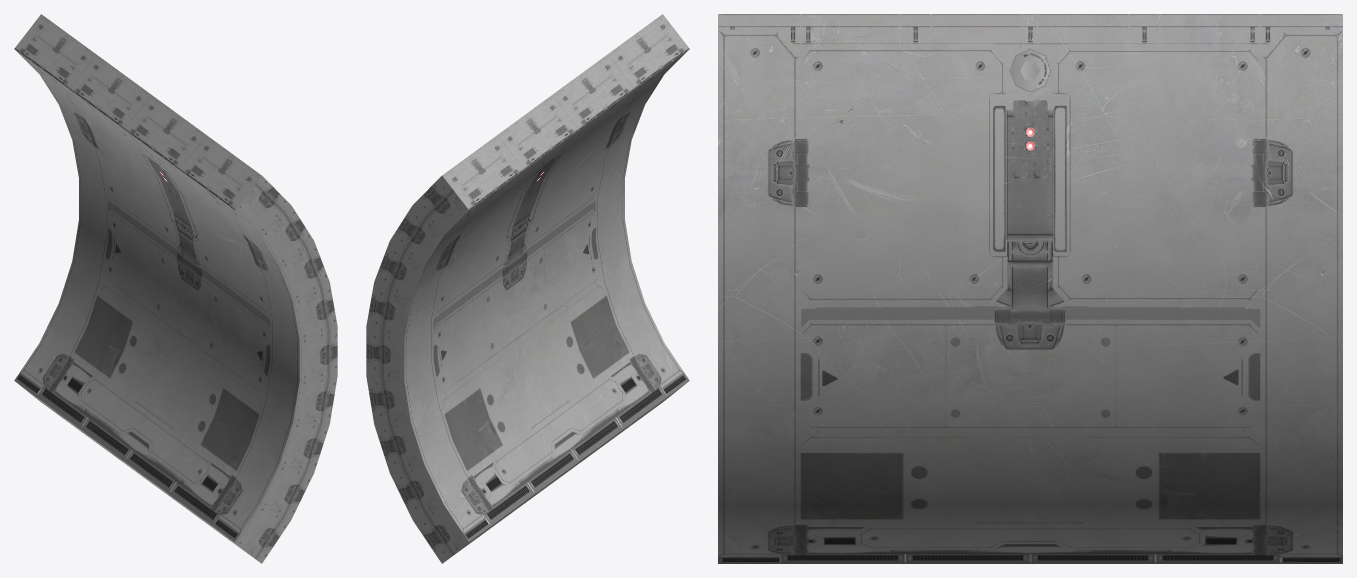
File: SM_Walls_CURVED01.fbx
3 views of the same model, side by side, from view 1: azimuth 30°, elevation 25°; view 2: azimuth 150°, elevation 25°; view 3: azimuth 270°, elevation 25° (orthographic). The views are drawn at different scales.
Visible parts, largest first — view 1: SM_Walls_CURVED01_LOD0; view 2: SM_Walls_CURVED01_LOD0; view 3: SM_Walls_CURVED01_LOD0.
Boxes of the visible parts, bbox=[...] form: SM_Walls_CURVED01_LOD0: bbox=[14, 14, 337, 563]; SM_Walls_CURVED01_LOD0: bbox=[366, 14, 689, 563]; SM_Walls_CURVED01_LOD0: bbox=[718, 14, 1342, 563].
Bounding box in the file's own units: 108 × 400 × 388.
1 material, 1 textured.
